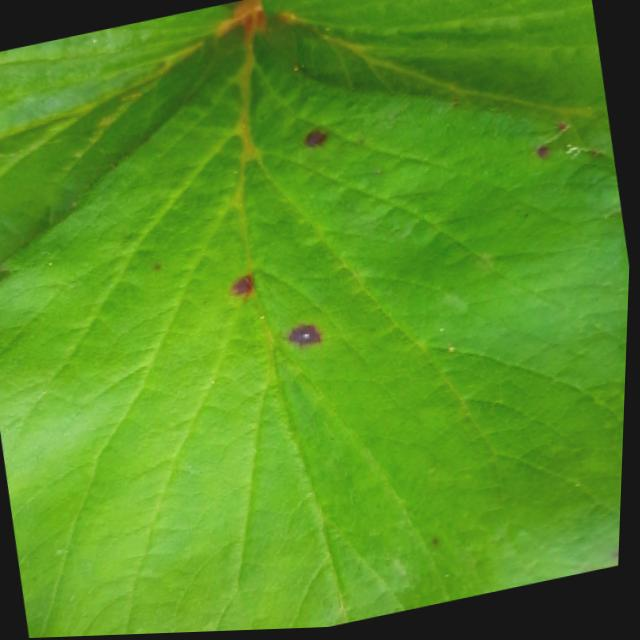Leaf Spot: (0, 33, 632, 639)
